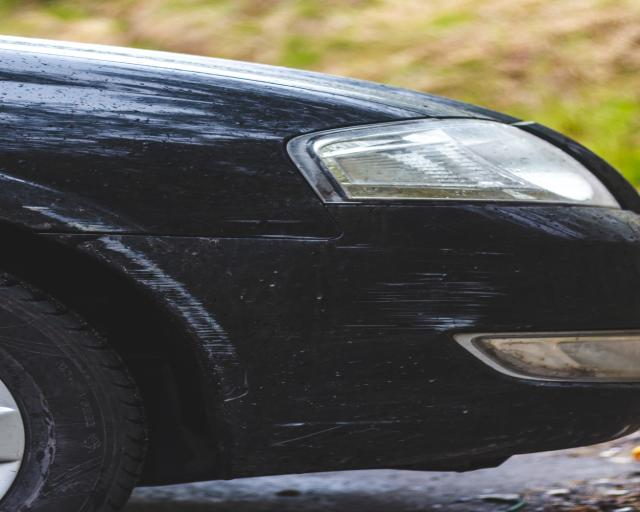scratch: (73, 236, 244, 374), (354, 246, 517, 338), (14, 204, 123, 232)
